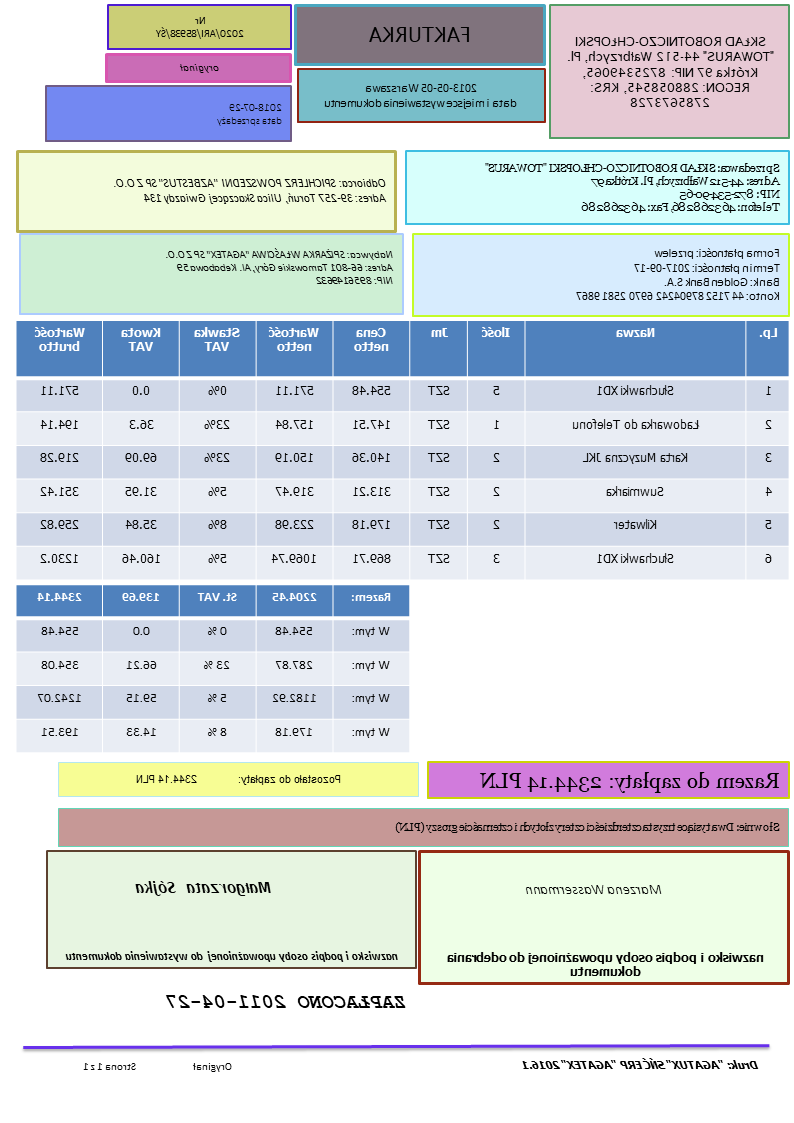Table: (14, 319, 791, 583), (15, 583, 411, 754)
TextBox: (483, 159, 783, 217), (565, 33, 776, 112), (575, 244, 783, 303), (163, 245, 397, 289), (443, 948, 768, 979), (111, 173, 390, 209), (478, 763, 782, 795), (394, 817, 782, 838), (63, 947, 401, 964), (323, 81, 519, 110), (165, 991, 408, 1013), (133, 768, 345, 788), (520, 1055, 760, 1072), (79, 1056, 236, 1076), (134, 876, 274, 897), (153, 11, 246, 42), (522, 879, 666, 899), (365, 22, 474, 46), (216, 99, 284, 129), (178, 59, 222, 76)
